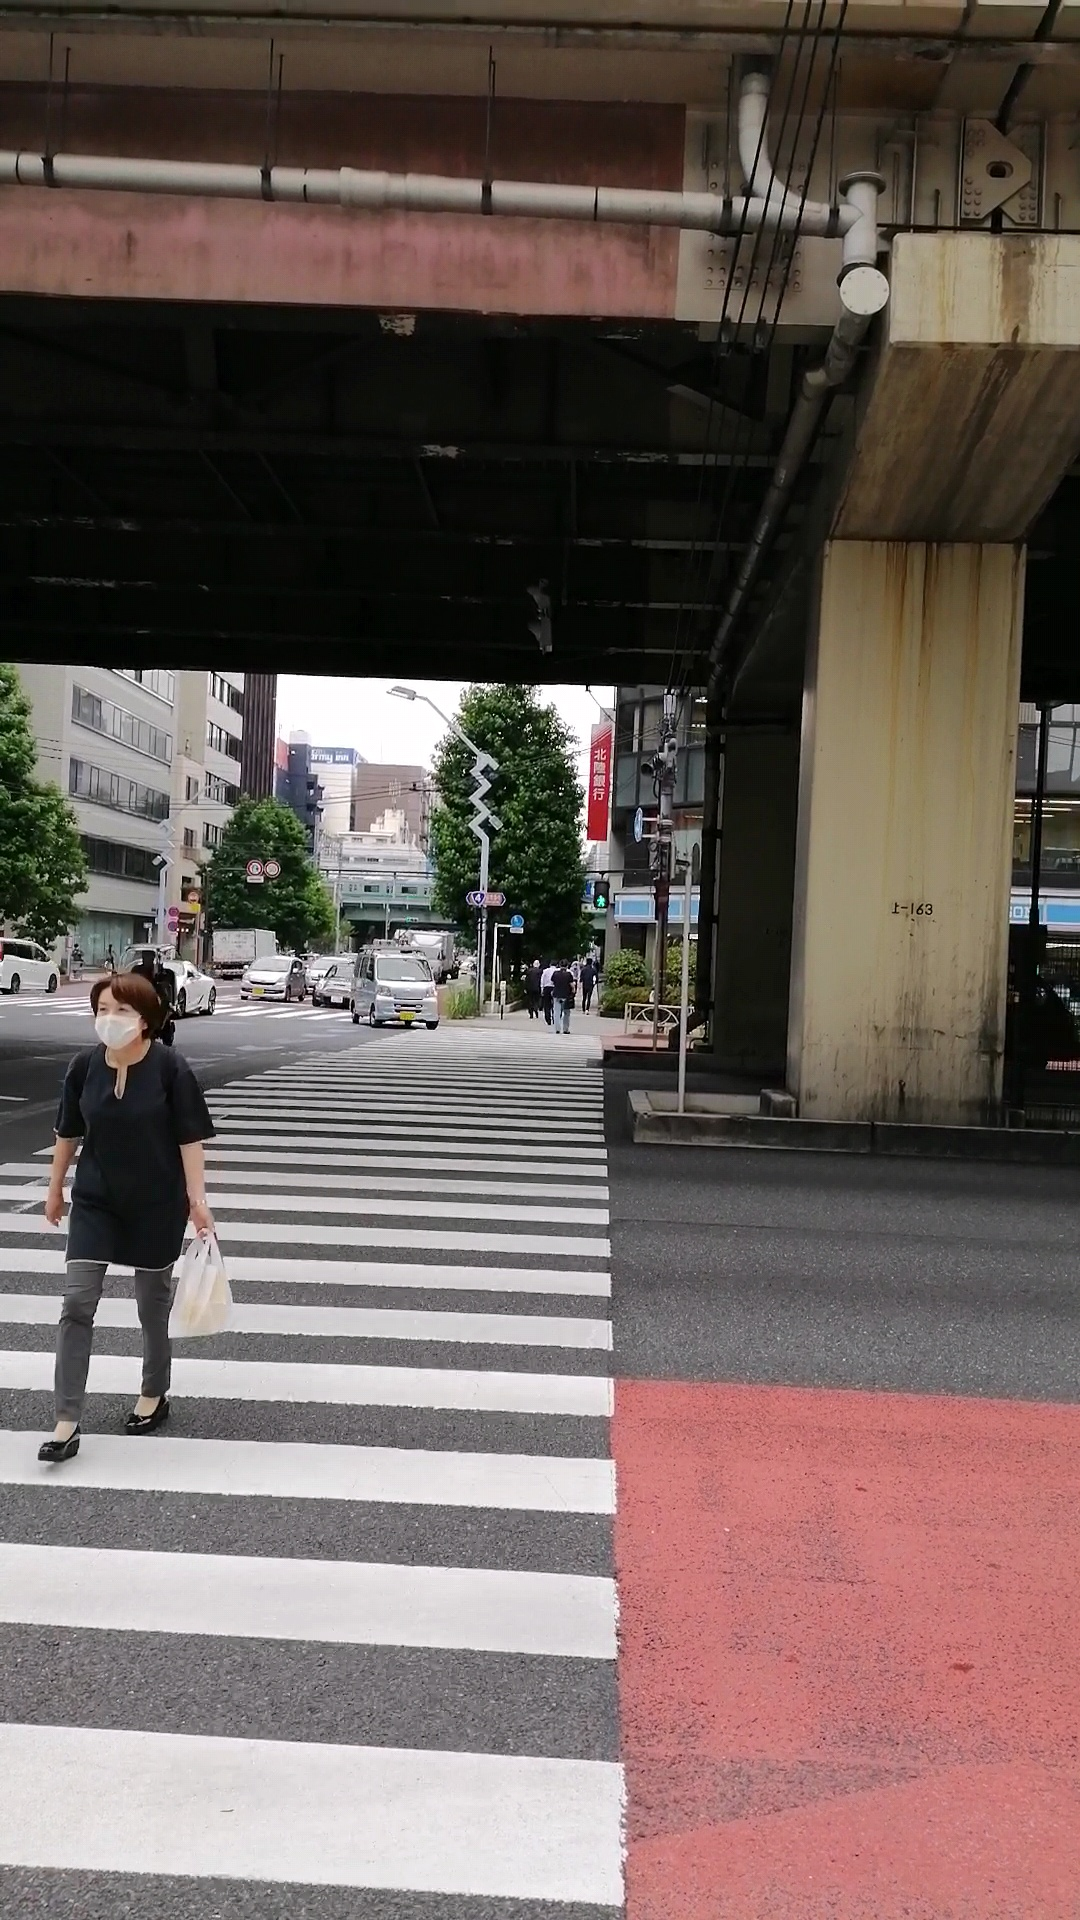green: (592, 881, 609, 909)
